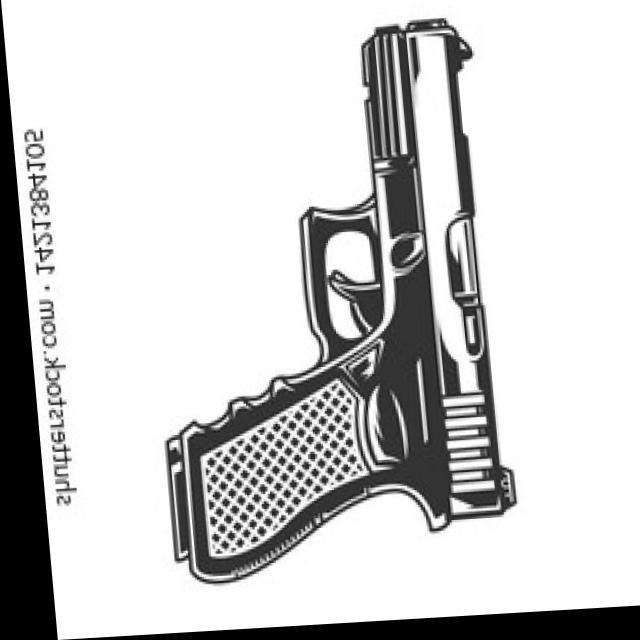handgun: (124, 11, 520, 588)
